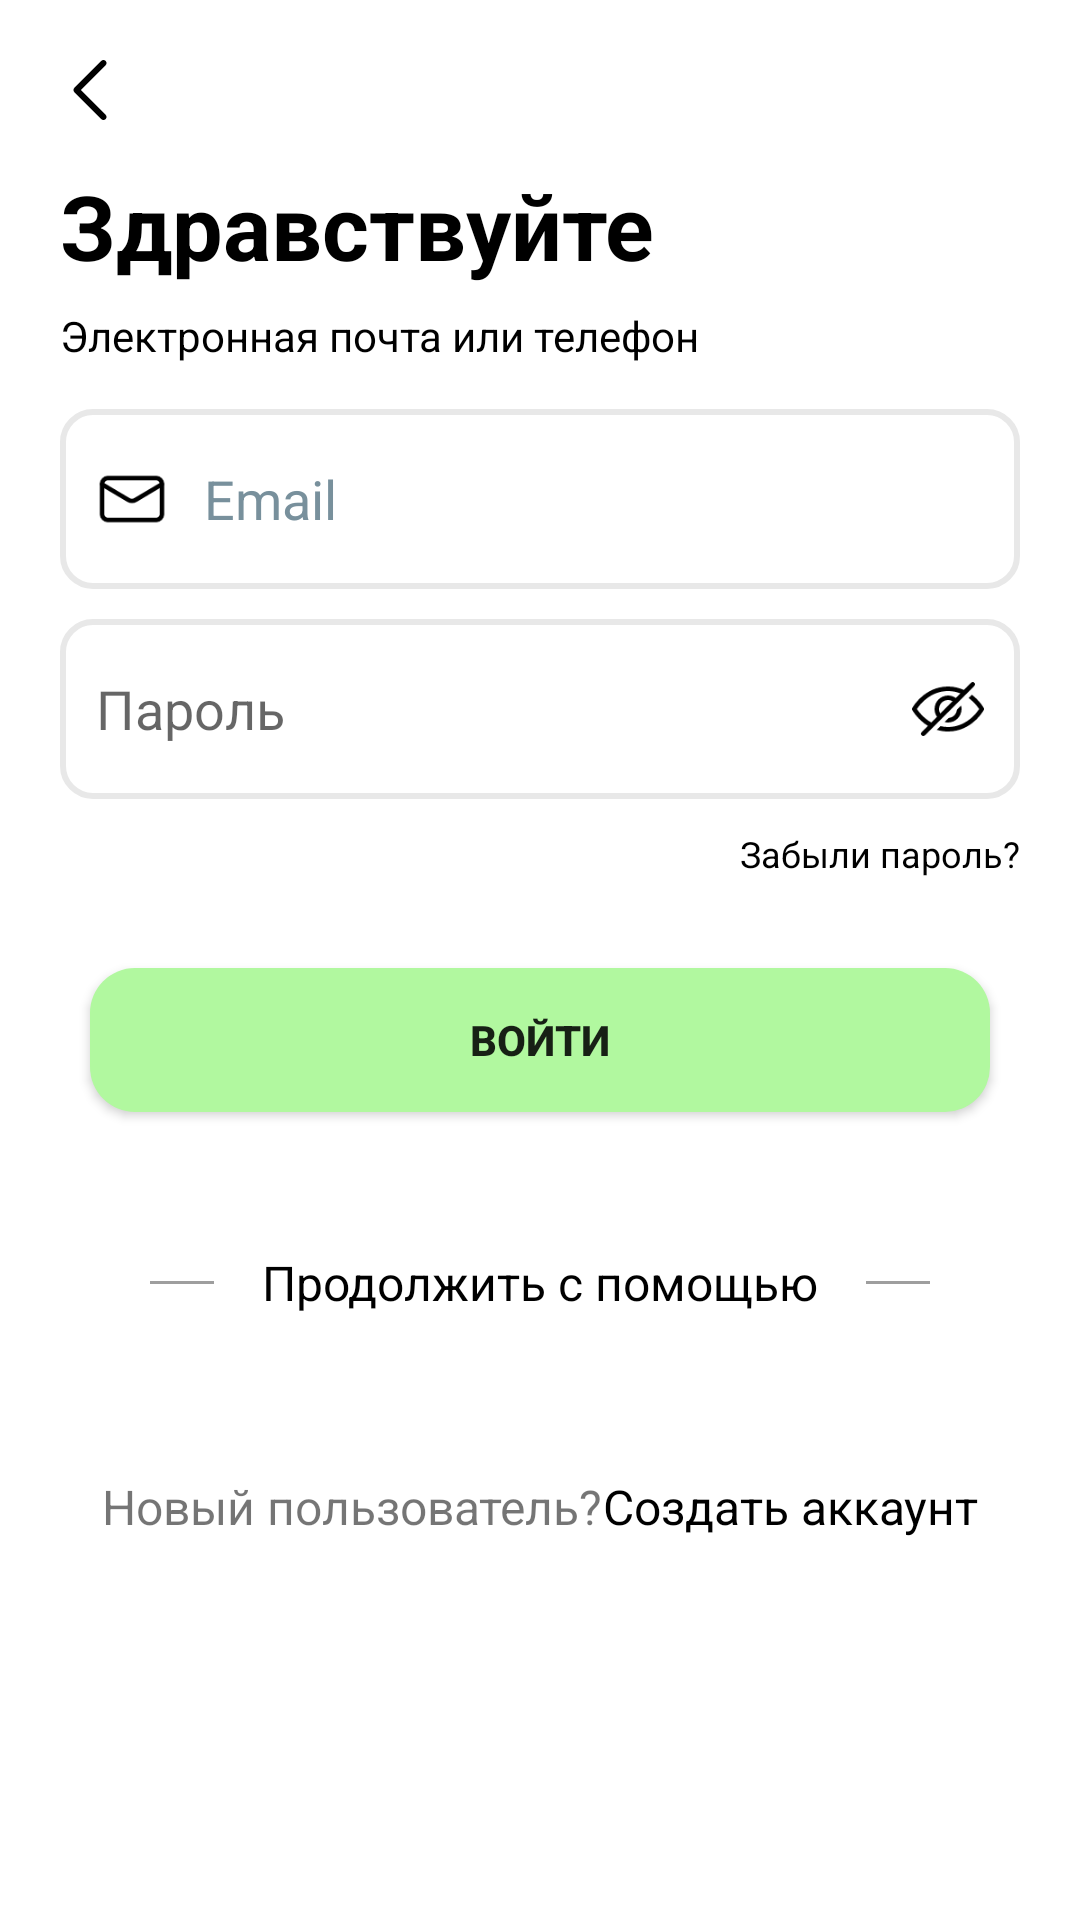

Where to tap for icons on this 1080w x 1920h app screen, as point (x, y):
back: point (90, 90)
